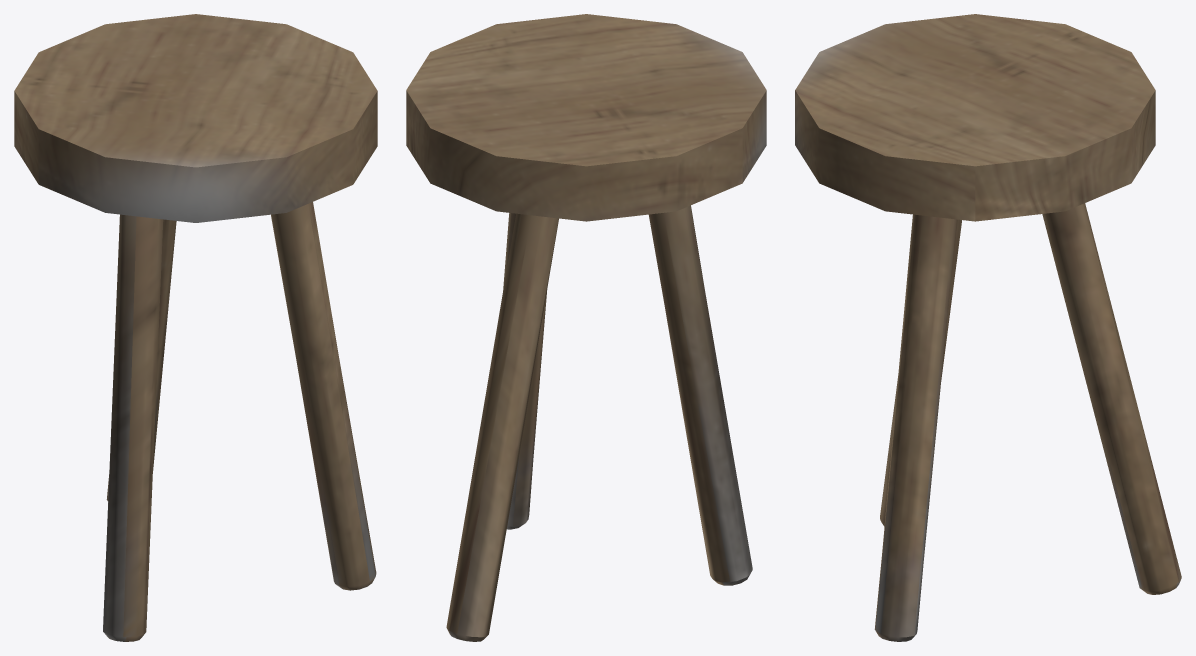
Rendered from WoodenChair.fbx.
The picture shows the model from 3 angles, left to right: view 1: azimuth 30°, elevation 25°; view 2: azimuth 150°, elevation 25°; view 3: azimuth 270°, elevation 25°; orthographic projection.
Visible parts, largest first — view 1: WoodenChair; view 2: WoodenChair; view 3: WoodenChair.
Part boxes in pixels (bbox=[...]): WoodenChair: bbox=[14, 14, 377, 641]; WoodenChair: bbox=[406, 14, 766, 641]; WoodenChair: bbox=[795, 14, 1181, 641].
Bounding box in the file's own units: 0.7545 × 1.13 × 0.8093.
